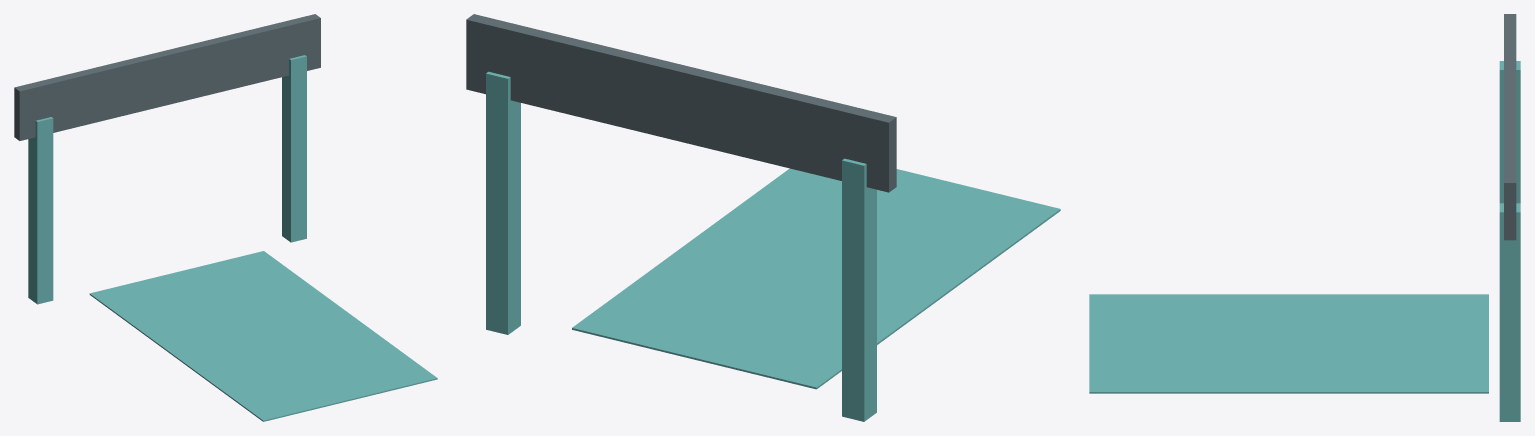
The model's file is CircuitBridgeApproach.glb.
3 renders of one model, left to right at view 1: azimuth 30°, elevation 25°; view 2: azimuth 150°, elevation 25°; view 3: azimuth 270°, elevation 25°, orthographic. The views are drawn at different scales.
Parts seen in each view (by area): view 1: CircuitBridgeApproach_BridgePaint; view 2: CircuitBridgeApproach_BridgePaint; view 3: CircuitBridgeApproach_BridgePaint.
Part boxes in pixels (left/top/right/bottom): CircuitBridgeApproach_BridgePaint: left=14, top=14, right=437, bottom=421; CircuitBridgeApproach_BridgePaint: left=466, top=14, right=1060, bottom=421; CircuitBridgeApproach_BridgePaint: left=1089, top=14, right=1520, bottom=421.
Size of the model in its own units: 19 by 13 by 20.5.
